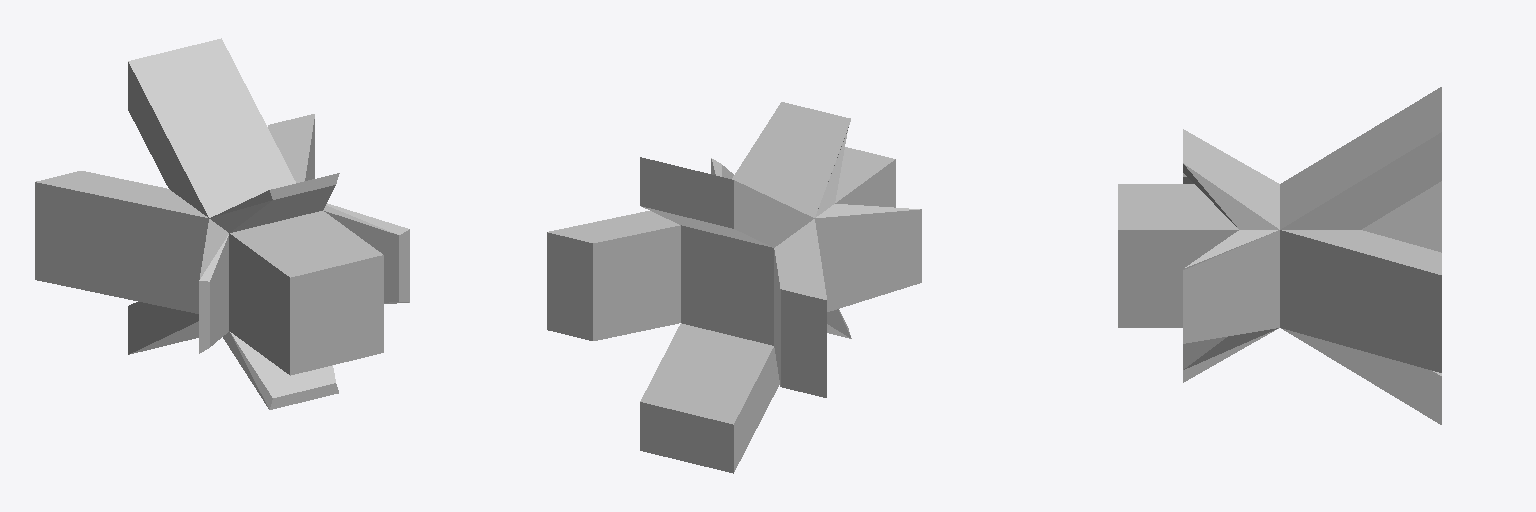
Rendered from Torch.obj.
3 renders of one model, left to right at view 1: azimuth 30°, elevation 25°; view 2: azimuth 150°, elevation 25°; view 3: azimuth 270°, elevation 25°, orthographic.
Visible parts, largest first — view 1: Cube; view 2: Cube; view 3: Cube.
Boxes of the visible parts, x1,y1,x2,y2 form: Cube: [35, 38, 409, 409]; Cube: [547, 102, 921, 473]; Cube: [1118, 87, 1441, 424].
Size of the model in its own units: 2 by 2 by 2.